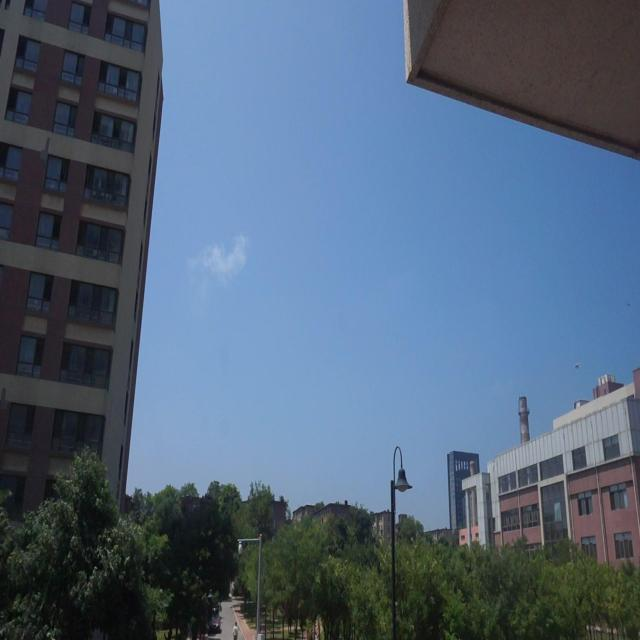drone: (572, 357, 583, 375)
